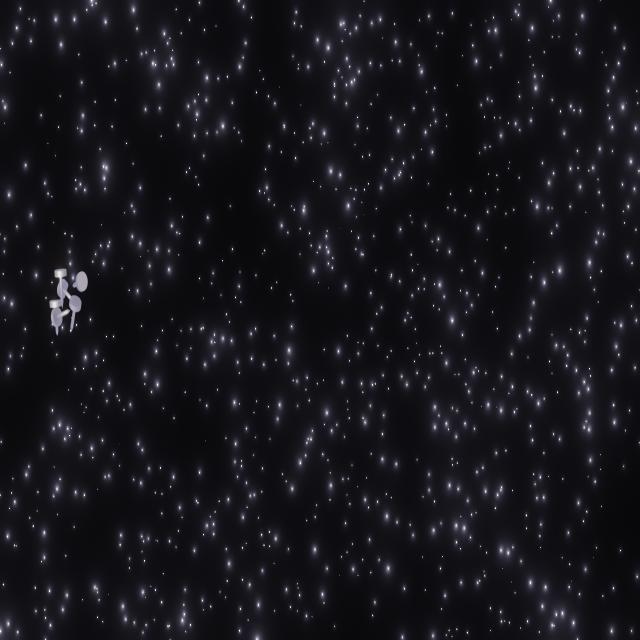large_debris: (51, 265, 91, 332)
